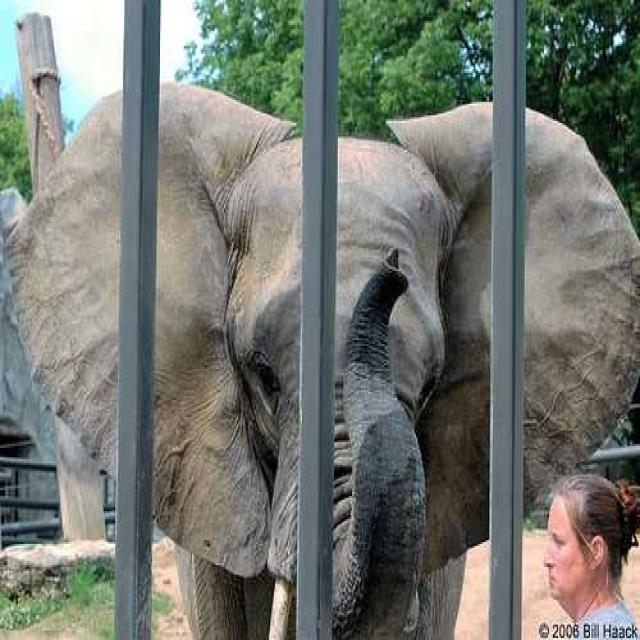Elephant: (1, 79, 639, 638)
person: (541, 471, 639, 638)
